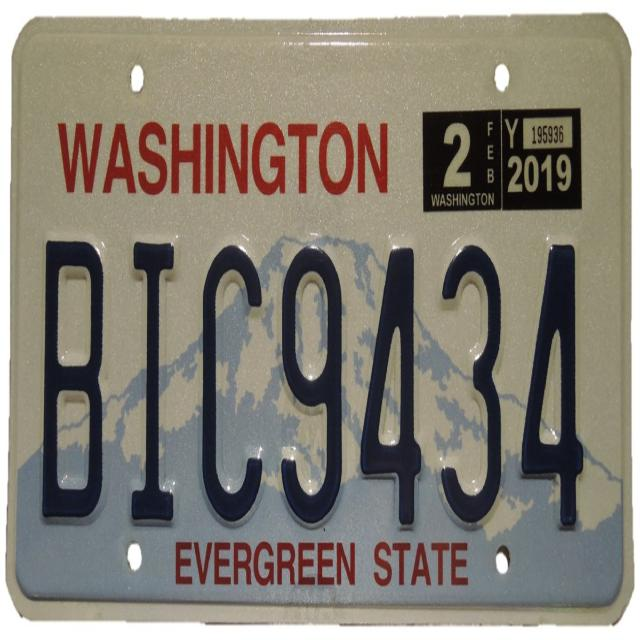placa: (24, 207, 604, 550)
